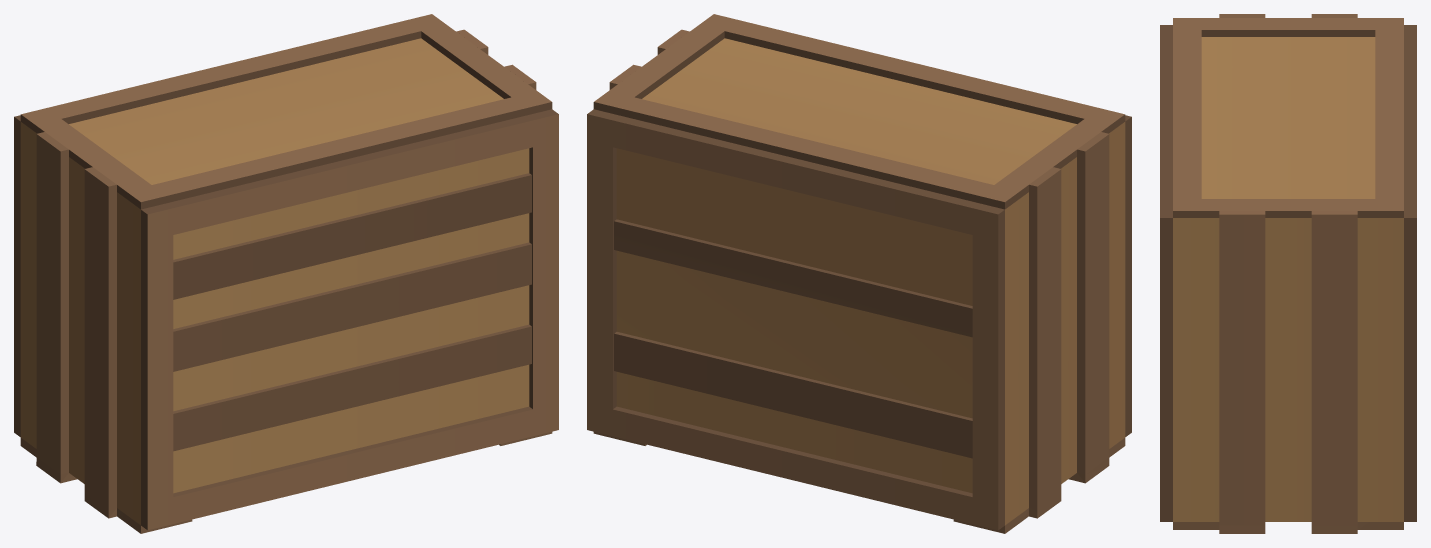
Rendered from Large Shipping Crate #1.fbx.
The picture shows the model from 3 angles, left to right: view 1: azimuth 30°, elevation 25°; view 2: azimuth 150°, elevation 25°; view 3: azimuth 270°, elevation 25°; orthographic projection. The views are drawn at different scales.
Visible parts, largest first — view 1: Large Shipping Crate #1; view 2: Large Shipping Crate #1; view 3: Large Shipping Crate #1.
Part boxes in pixels (left/top/right/bottom): Large Shipping Crate #1: left=14, top=14, right=558, bottom=533; Large Shipping Crate #1: left=587, top=14, right=1131, bottom=533; Large Shipping Crate #1: left=1160, top=14, right=1416, bottom=533.
Size of the model in its own units: 674 by 491 by 910.
Materials: 1 (1 with a texture image).
